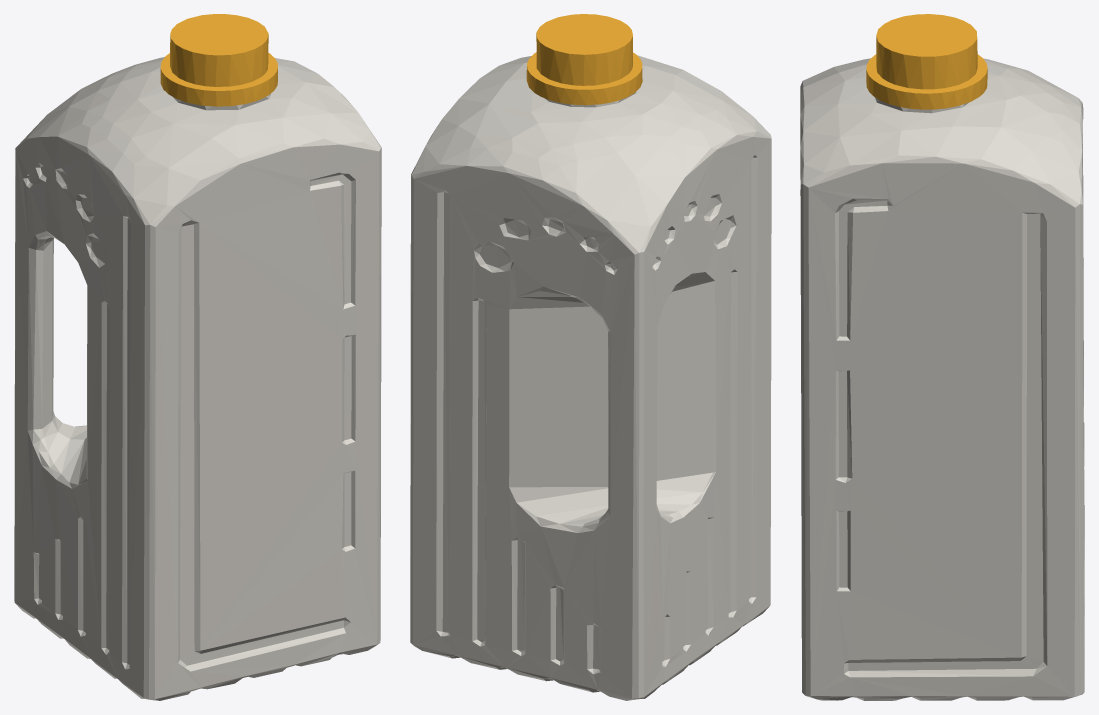
The model's file is milk_bottle.dae.
3 views of the same model, side by side, from view 1: azimuth 30°, elevation 25°; view 2: azimuth 150°, elevation 25°; view 3: azimuth 270°, elevation 25° (orthographic). The views are drawn at different scales.
Visible parts, largest first — view 1: node1, node0; view 2: node1, node0; view 3: node1, node0.
Part boxes in pixels (bbox=[...]): node1: bbox=[14, 57, 381, 700]; node0: bbox=[160, 14, 277, 106]; node1: bbox=[410, 55, 771, 700]; node0: bbox=[526, 14, 642, 105]; node1: bbox=[800, 58, 1084, 700]; node0: bbox=[866, 14, 987, 109].
Size of the model in its own units: 0.1279 by 0.1286 by 0.307.
